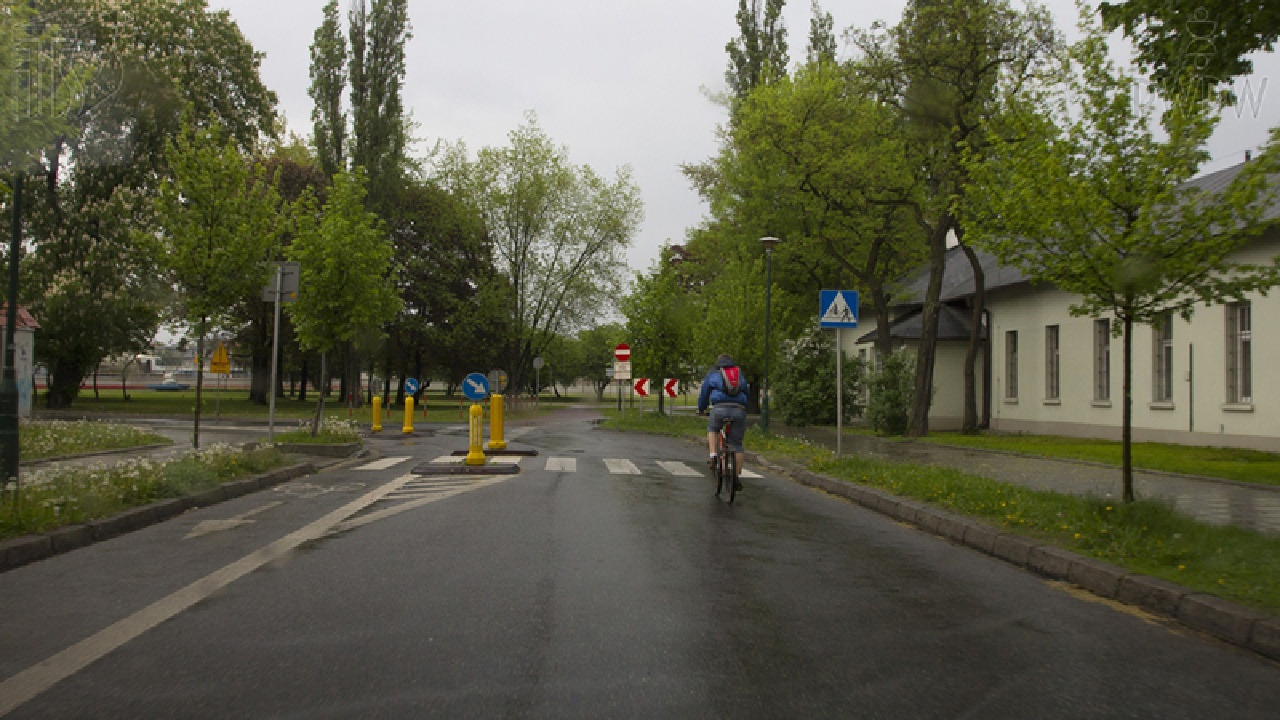B2: (615, 343, 632, 361)
C9: (462, 372, 489, 400)
